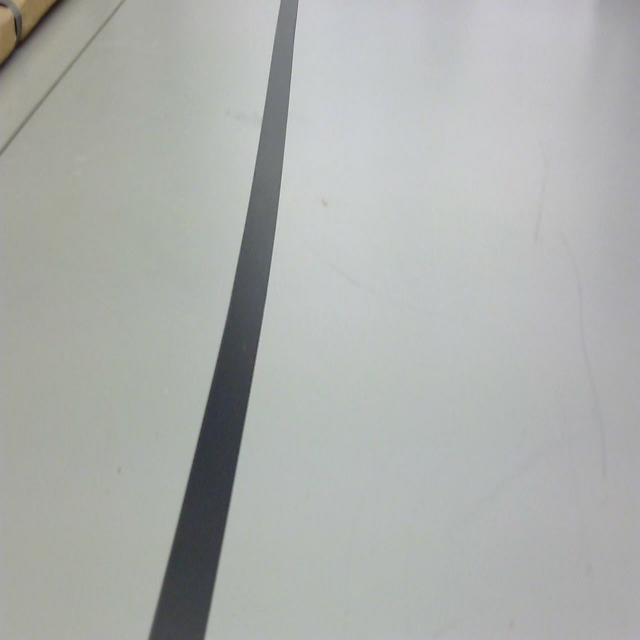tape: (130, 0, 310, 640)
